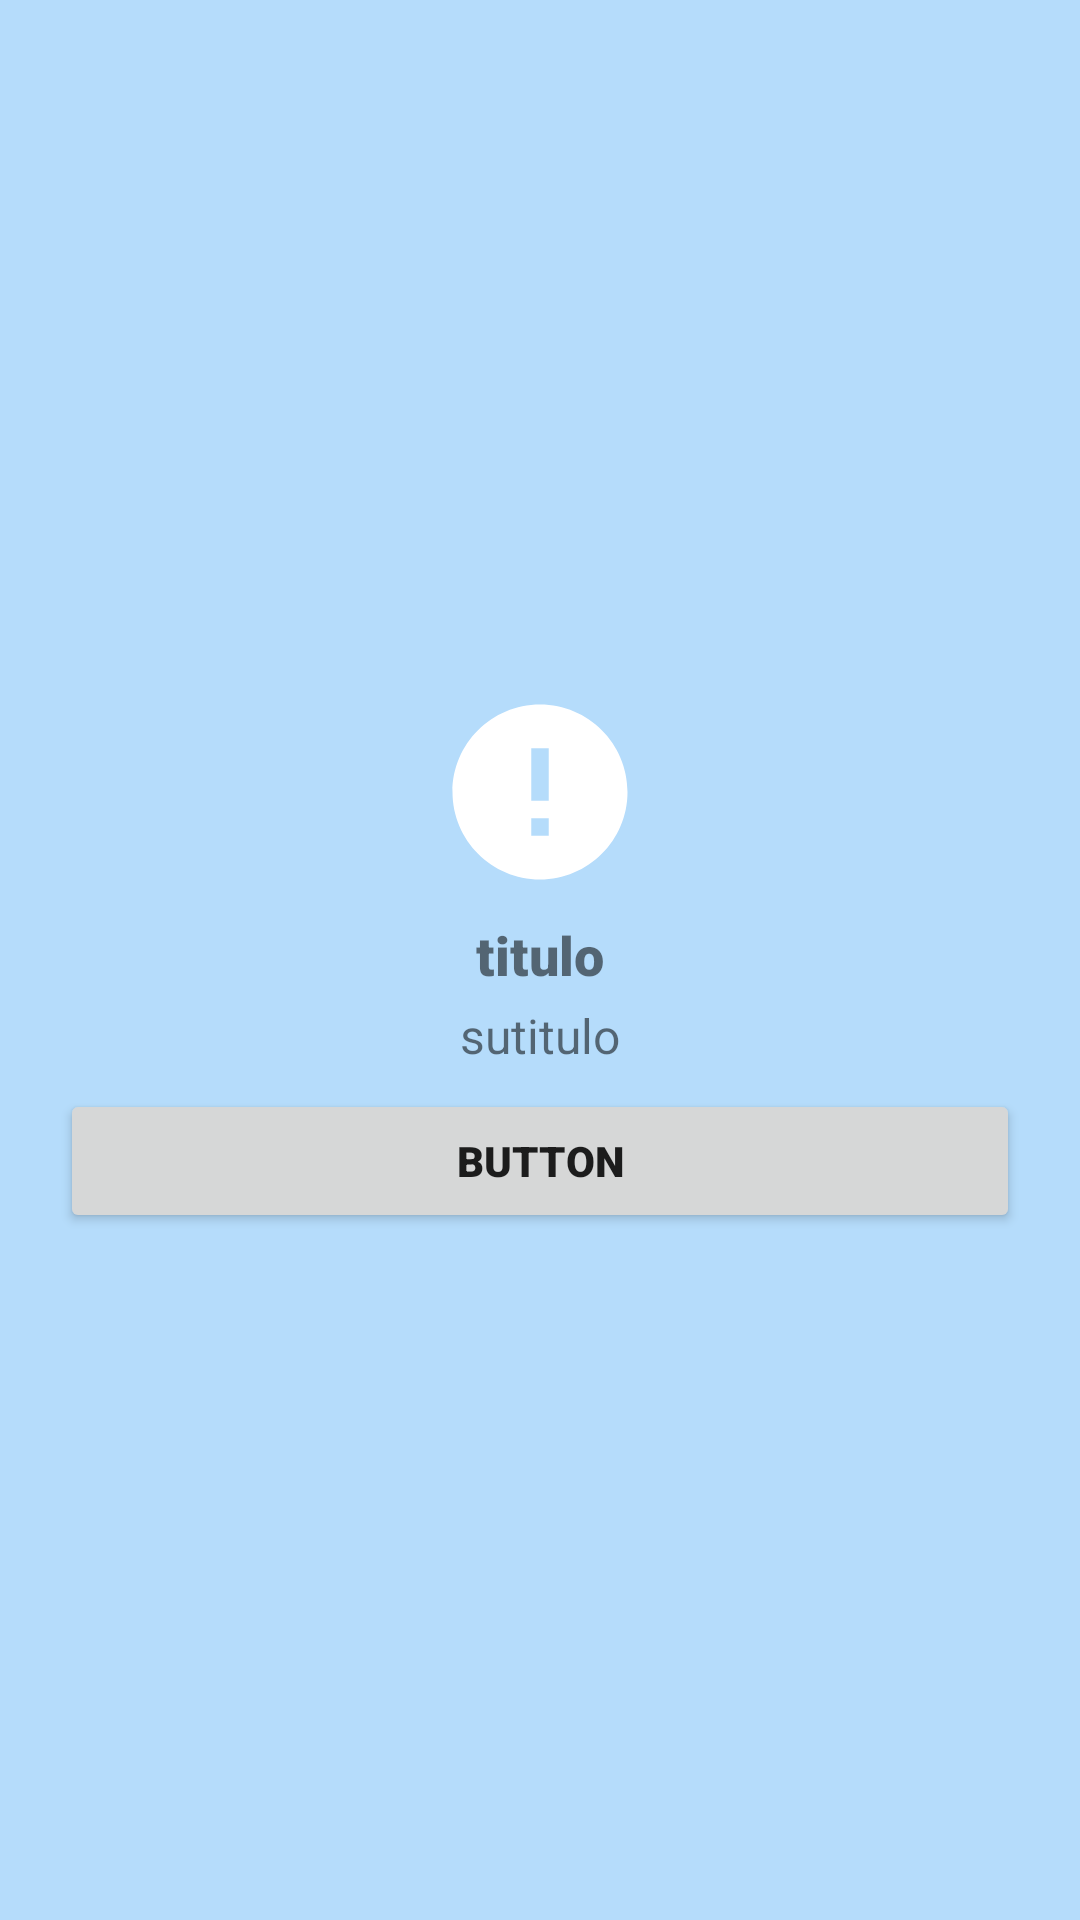

Where icons sit on this 1080px x 1920px app screen, as (x1, y1, x2, y2):
error: (452, 704, 628, 880)
